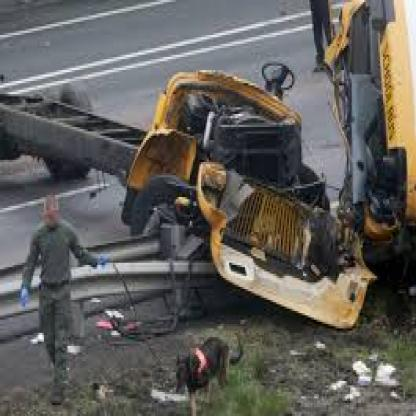accident: (1, 0, 416, 337)
